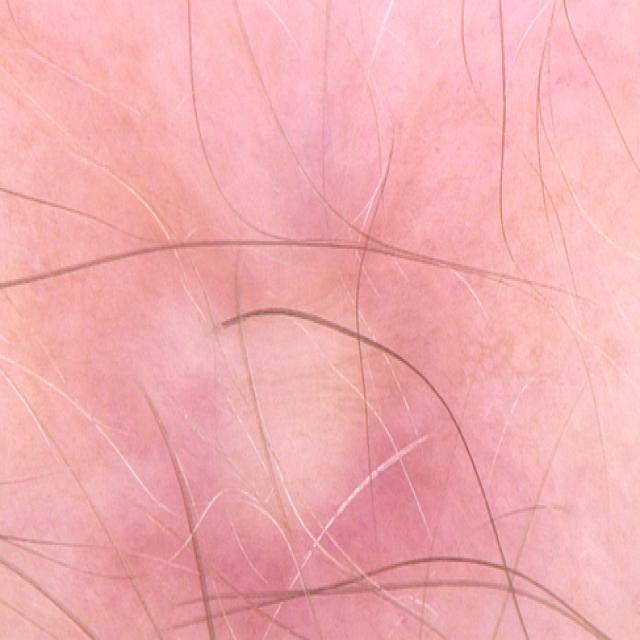Dermatofibroma: (116, 192, 498, 621)
